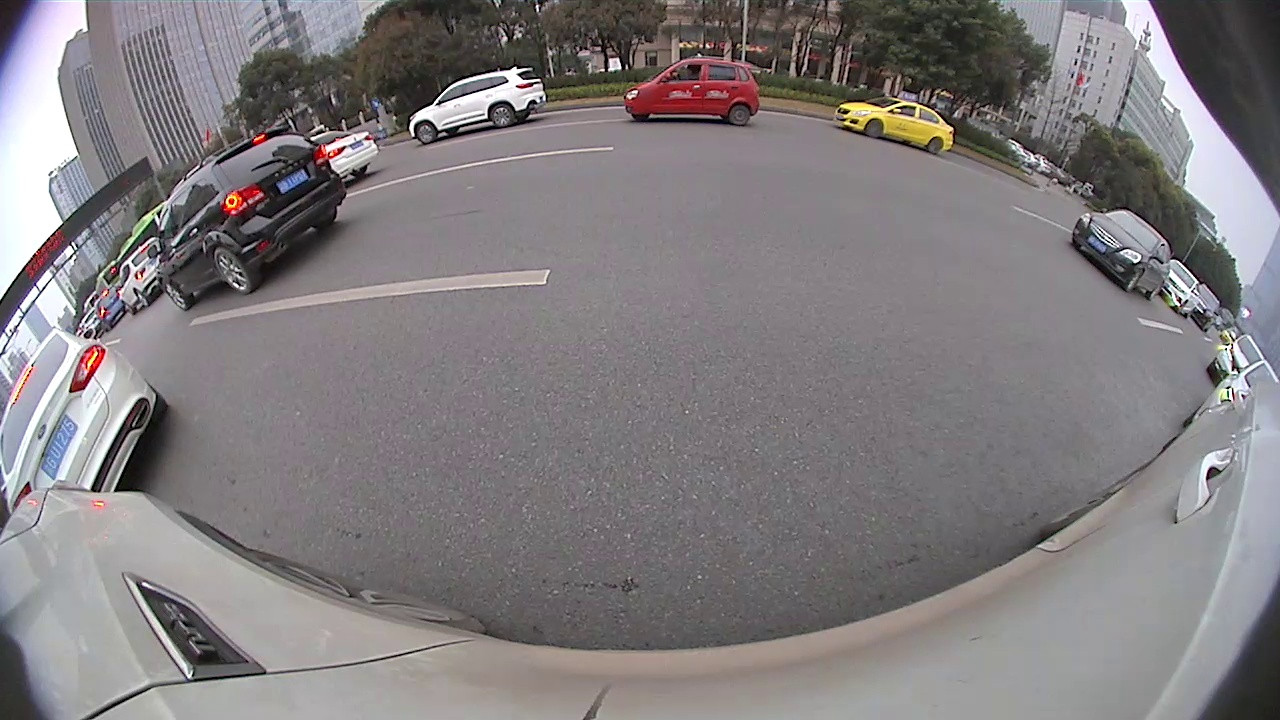car: (154, 124, 347, 313), (2, 324, 170, 510), (407, 64, 548, 149), (623, 54, 765, 129), (1067, 208, 1175, 299), (831, 91, 958, 161)
front: (162, 279, 188, 314), (414, 121, 437, 146), (865, 120, 883, 139)
rear: (212, 246, 252, 296), (488, 104, 515, 130), (727, 103, 752, 128), (927, 136, 943, 153)
